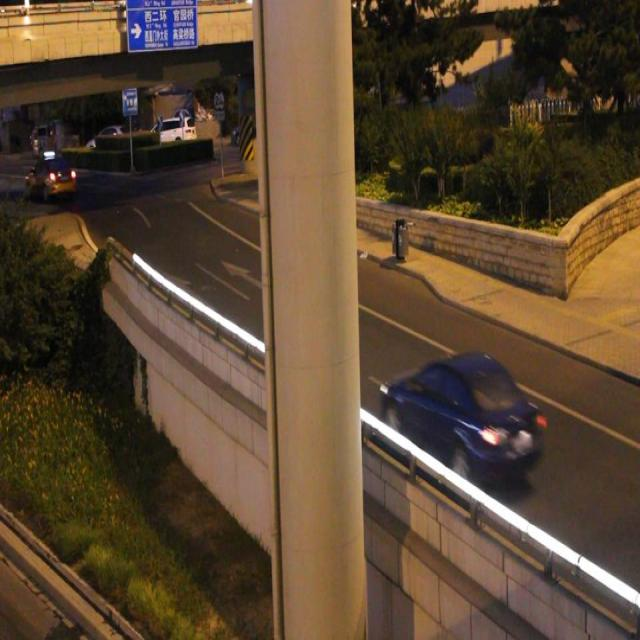car: (378, 346, 542, 491)
